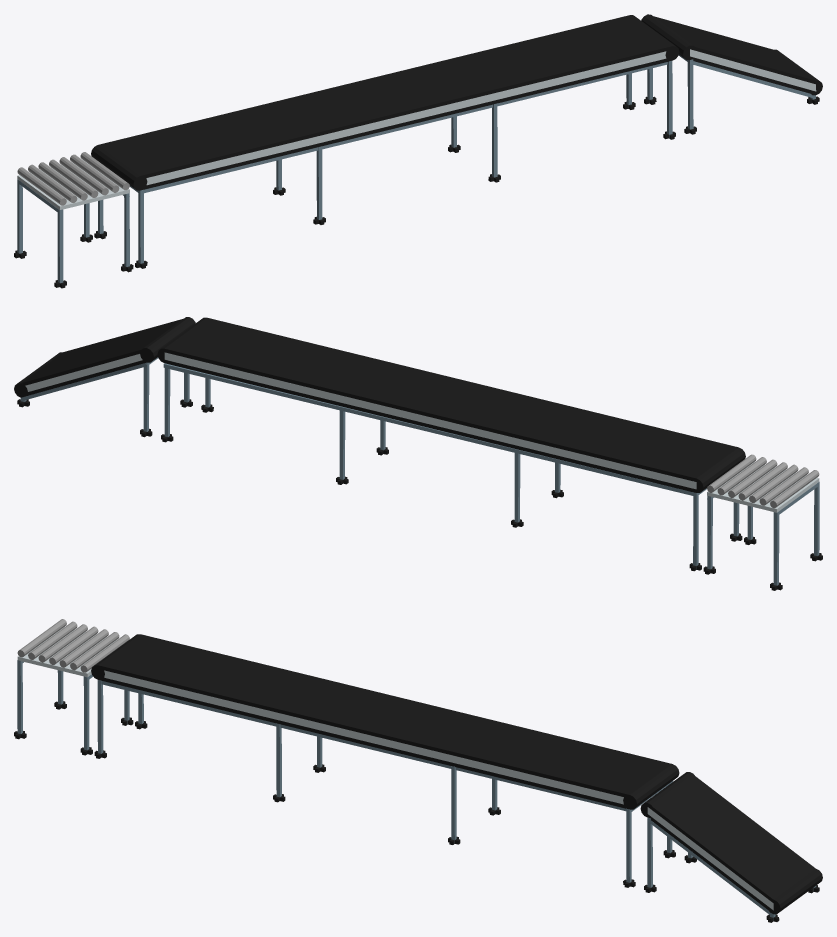
File: Conveyor.glb
3 renders of one model, top to bottom at view 1: azimuth 30°, elevation 25°; view 2: azimuth 150°, elevation 25°; view 3: azimuth 330°, elevation 25°, orthographic.
Visible parts, largest first — view 1: group512570650, group161396369, group274748806, group160355870, group810781124, group682253249, group848837919, group1508755916, group1540390198, group699426358, group1213219495, group224266847; view 2: group512570650, group161396369, group274748806, group37982561, group160355870, group848837919, group682253249, group1508755916, group1540390198, group1566753053, group699426358; view 3: group512570650, group274748806, group161396369, group160355870, group810781124, group682253249, group884165777, group1548458748, group848837919, group1540390198.
Part boxes in pixels (box(x1,y1,x2,y2)): group512570650: box(98, 15, 671, 177); group161396369: box(146, 51, 666, 185); group274748806: box(654, 16, 815, 84); group160355870: box(140, 57, 672, 190); group810781124: box(144, 62, 667, 193); group682253249: box(690, 49, 816, 91); group848837919: box(17, 159, 129, 209); group1508755916: box(91, 145, 147, 190); group1540390198: box(641, 14, 694, 59); group699426358: box(690, 56, 815, 94); group1213219495: box(687, 60, 814, 97); group224266847: box(57, 209, 63, 283); group512570650: box(164, 317, 738, 481); group161396369: box(164, 352, 696, 489); group274748806: box(21, 318, 183, 385); group37982561: box(163, 363, 696, 496); group160355870: box(166, 361, 695, 492); group848837919: box(707, 462, 819, 512); group682253249: box(25, 354, 142, 391); group1508755916: box(691, 447, 745, 492); group1540390198: box(140, 317, 195, 362); group1566753053: box(20, 362, 146, 401); group699426358: box(27, 360, 146, 395); group512570650: box(98, 634, 671, 796); group274748806: box(647, 776, 815, 902); group161396369: box(104, 670, 623, 804); group160355870: box(98, 676, 629, 809); group810781124: box(101, 680, 632, 812); group682253249: box(647, 807, 773, 910); group884165777: box(623, 764, 679, 809); group1548458748: box(769, 869, 822, 914); group848837919: box(17, 627, 116, 677); group1540390198: box(640, 772, 694, 817).
Size of the model in its own units: 2.19 by 0.2499 by 0.2304.
